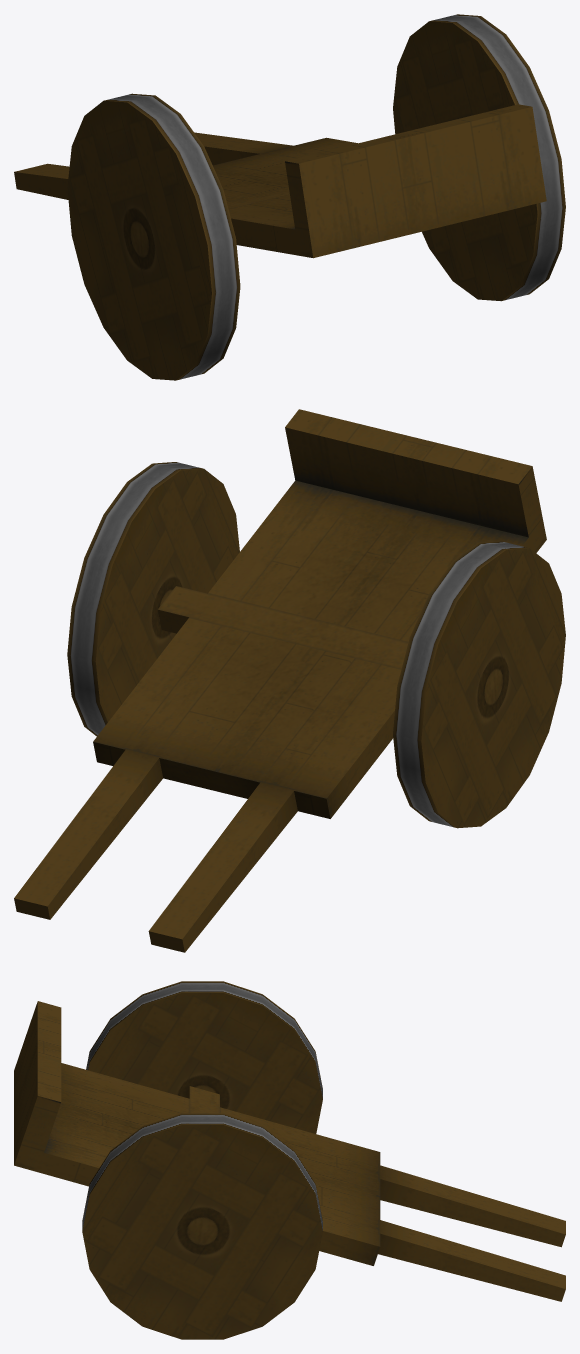
The model's file is mod_prop_cart.fbx.
The picture shows the model from 3 angles, top to bottom: view 1: azimuth 30°, elevation 25°; view 2: azimuth 150°, elevation 25°; view 3: azimuth 270°, elevation 25°; orthographic projection. The views are drawn at different scales.
Parts seen in each view (by area): view 1: polySurface8; view 2: polySurface8; view 3: polySurface8.
Part boxes in pixels (box(x1,y1,x2,y2)): polySurface8: box(14, 14, 565, 380); polySurface8: box(14, 409, 565, 952); polySurface8: box(14, 981, 565, 1339).
Bounding box in the file's own units: 688 × 490 × 1116.
